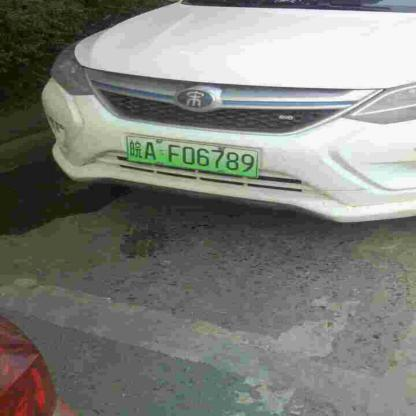lp: (126, 136, 257, 177)
